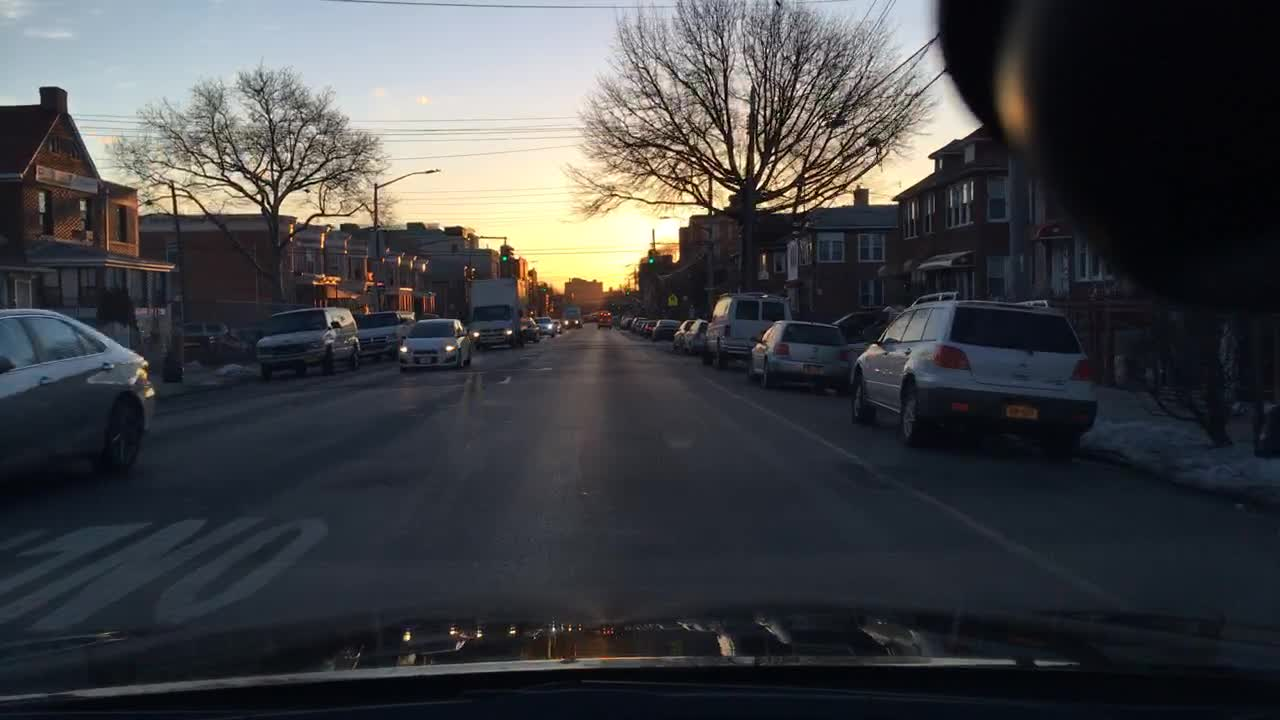car: (849, 291, 1098, 466), (1, 306, 152, 480), (255, 308, 360, 383), (745, 322, 855, 388), (701, 293, 789, 366), (396, 319, 475, 374), (831, 308, 899, 355), (361, 311, 413, 353), (675, 319, 706, 353), (178, 319, 230, 339), (559, 303, 581, 331), (651, 315, 673, 341), (519, 317, 539, 342), (537, 315, 556, 337), (596, 308, 614, 328), (614, 315, 631, 330), (635, 319, 648, 337), (586, 307, 597, 323)
traffic light: (646, 245, 655, 265)
traffic sign: (666, 290, 679, 307)
truck: (464, 275, 519, 348)
